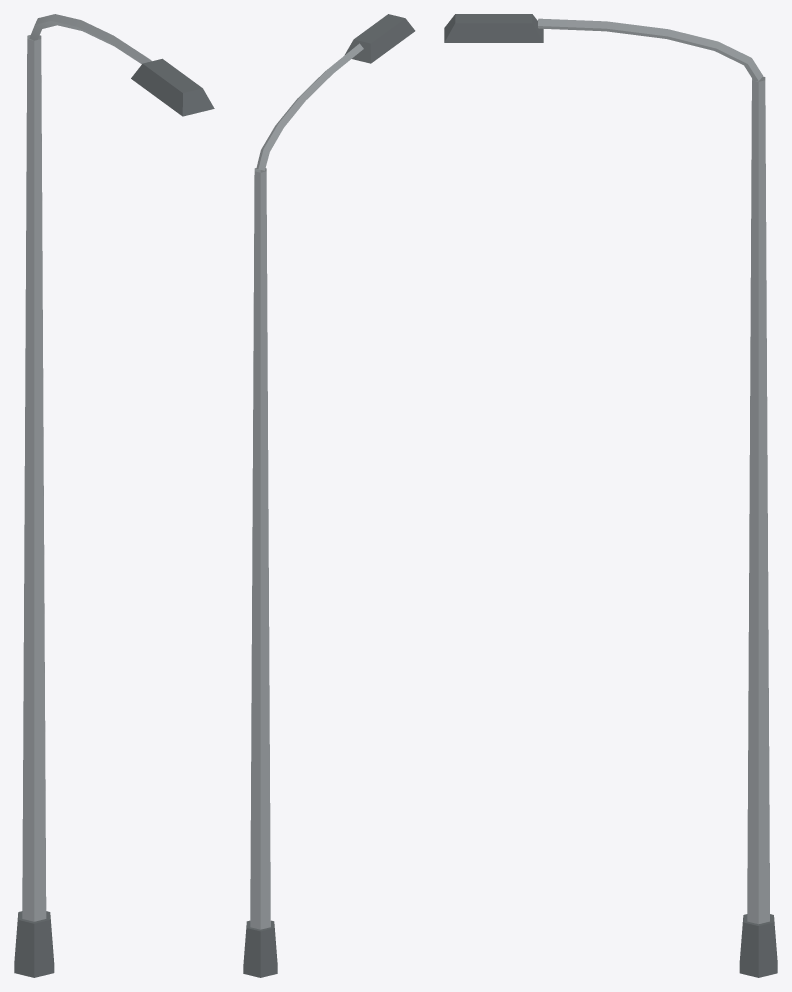
The model's file is sf_streetlamp_cobra.glb.
The picture shows the model from 3 angles, left to right: view 1: azimuth 30°, elevation 25°; view 2: azimuth 150°, elevation 25°; view 3: azimuth 270°, elevation 25°; orthographic projection. The views are drawn at different scales.
Parts seen in each view (by area): view 1: sf_streetlamp_cobra; view 2: sf_streetlamp_cobra; view 3: sf_streetlamp_cobra.
Boxes of the visible parts, x1=… form: sf_streetlamp_cobra: x1=14, y1=14, x2=214, y2=977; sf_streetlamp_cobra: x1=243, y1=14, x2=415, y2=977; sf_streetlamp_cobra: x1=444, y1=14, x2=777, y2=977.
Bounding box in the file's own units: 0.4001 × 9.5 × 3.02.
1 material, 1 textured.
